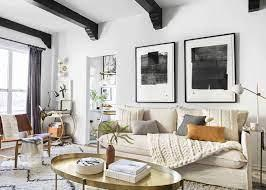chair: (0, 115, 38, 185), (15, 110, 52, 155)
door: (12, 46, 30, 116), (0, 46, 12, 111)
light: (228, 82, 266, 125)
sofa: (94, 106, 250, 190)
table: (45, 154, 178, 190), (245, 125, 266, 190), (44, 107, 78, 144), (91, 106, 118, 124)
